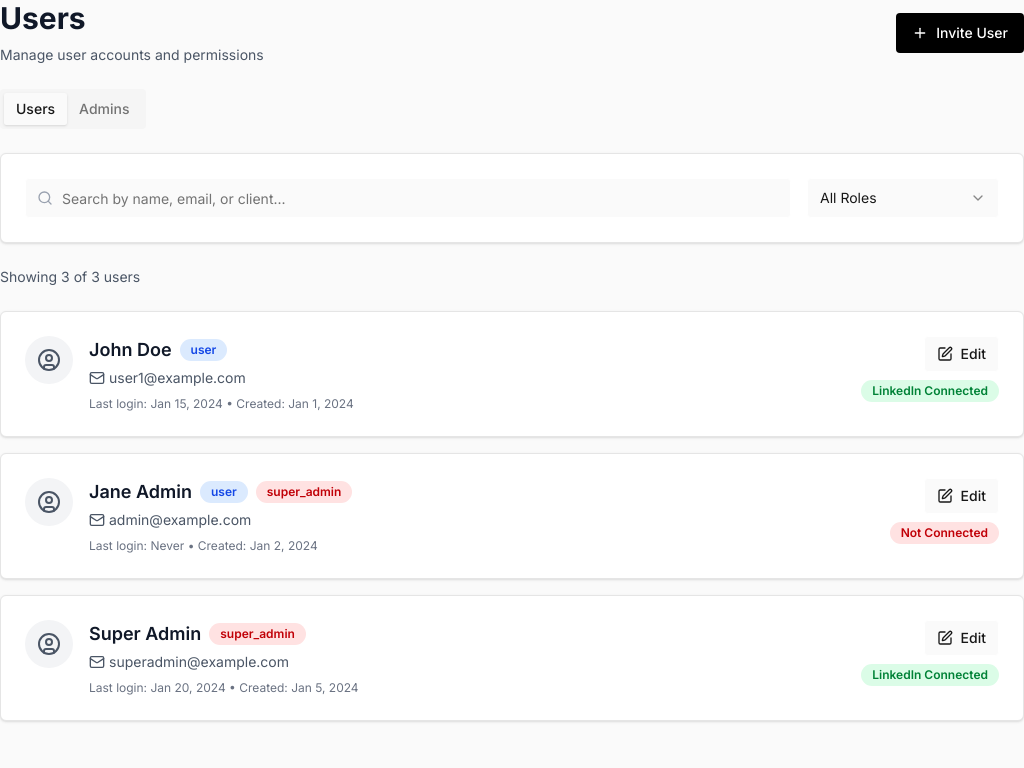
it: AdminUsersPage - Multi-Role Functionality › 2. Multi-Role Checkbox Tests › should load edit modal with correct roles from database
Expected: the heading "John Doe" is shown, [89, 336, 172, 364]
// Click edit on first user (user-1: only 'user' role)
Click the button "Edit" in the row of "user1@example.com" at (961, 354), box [924, 336, 999, 372]
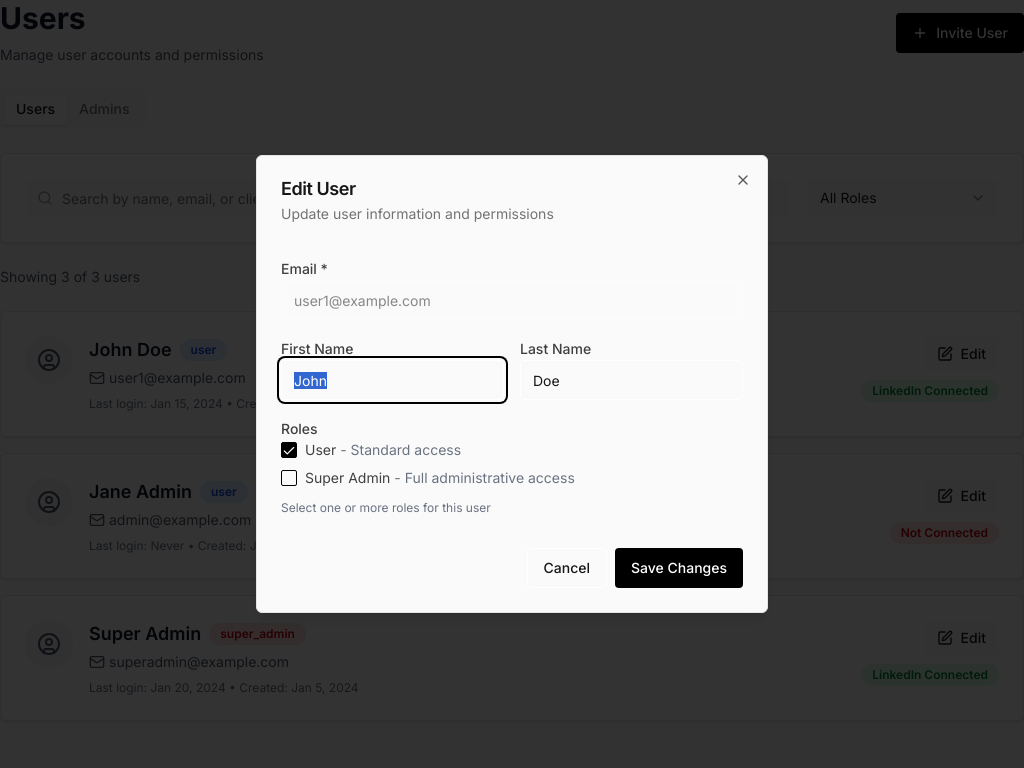
Now the dialog is shown, box [256, 155, 768, 613]
Now the checkbox named "User" in the row of "- Standard access" is checked, box [281, 442, 297, 458]
Now the checkbox named "Super Admin" in the row of "- Full administrative access" is not checked, box [281, 470, 297, 486]
